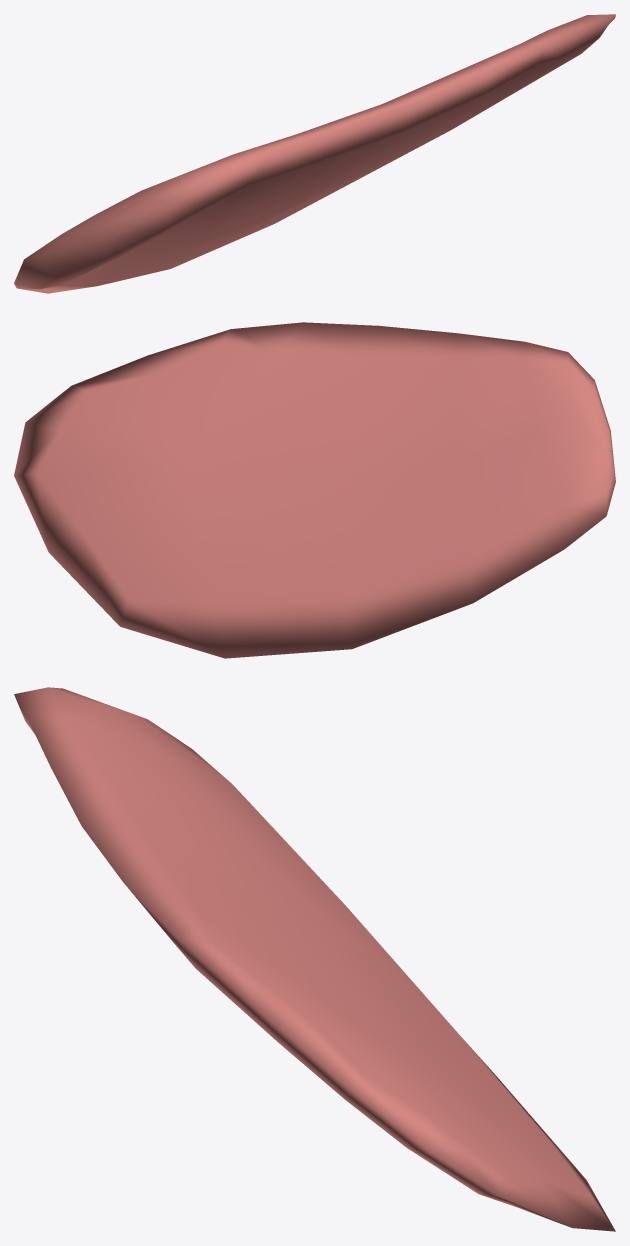
3 renders of one model, top to bottom at view 1: azimuth 30°, elevation 25°; view 2: azimuth 150°, elevation 25°; view 3: azimuth 270°, elevation 25°, orthographic. The views are drawn at different scales.
Parts seen in each view (by area): view 1: ZA_538565e7d9a5509a; view 2: ZA_538565e7d9a5509a; view 3: ZA_538565e7d9a5509a.
Part boxes in pixels (x1,y1,x2,y2): ZA_538565e7d9a5509a: [14, 14, 615, 293]; ZA_538565e7d9a5509a: [14, 322, 615, 658]; ZA_538565e7d9a5509a: [14, 687, 615, 1231].
Size of the model in its own units: 0.00767 by 0.00318 by 0.00481.
